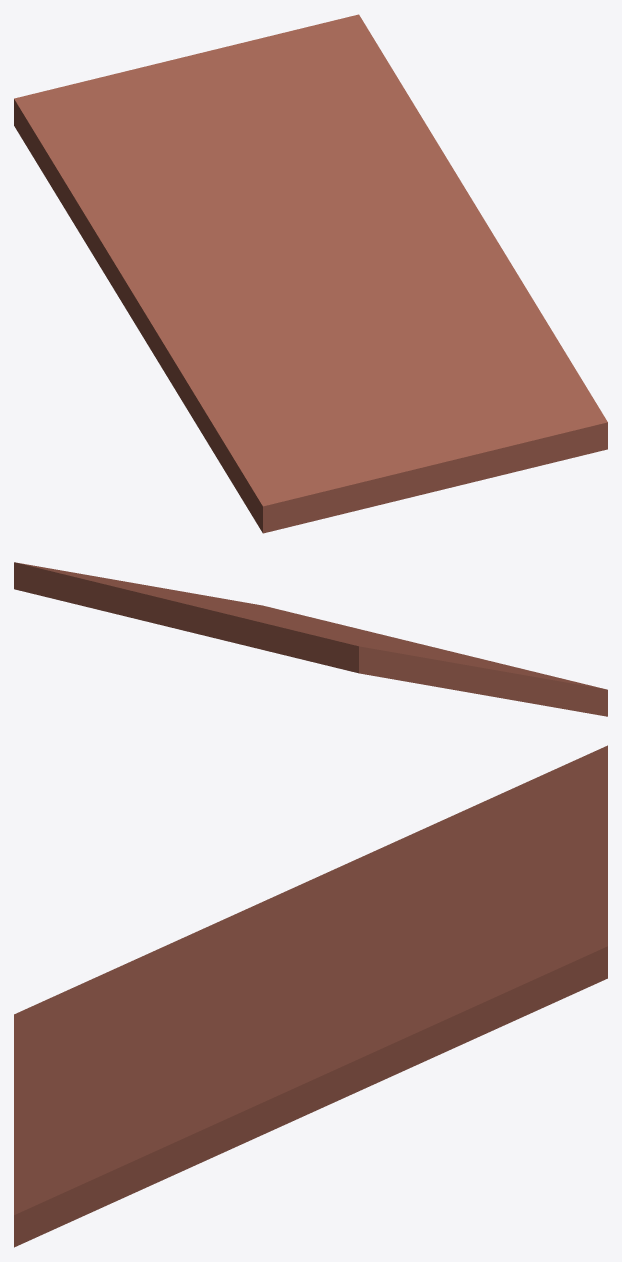
Rendered from roof_eave.glb.
3 renders of one model, top to bottom at view 1: azimuth 30°, elevation 25°; view 2: azimuth 150°, elevation 25°; view 3: azimuth 270°, elevation 25°, orthographic. The views are drawn at different scales.
Parts seen in each view (by area): view 1: Roof_Eave; view 2: Roof_Eave; view 3: Roof_Eave.
Part boxes in pixels (x1,y1,x2,y2): Roof_Eave: [14, 14, 607, 533]; Roof_Eave: [14, 562, 607, 716]; Roof_Eave: [14, 745, 607, 1247].
Size of what is drawn, in the model's own units: 2 by 1.4 by 2.5.
1 material, 1 textured.
